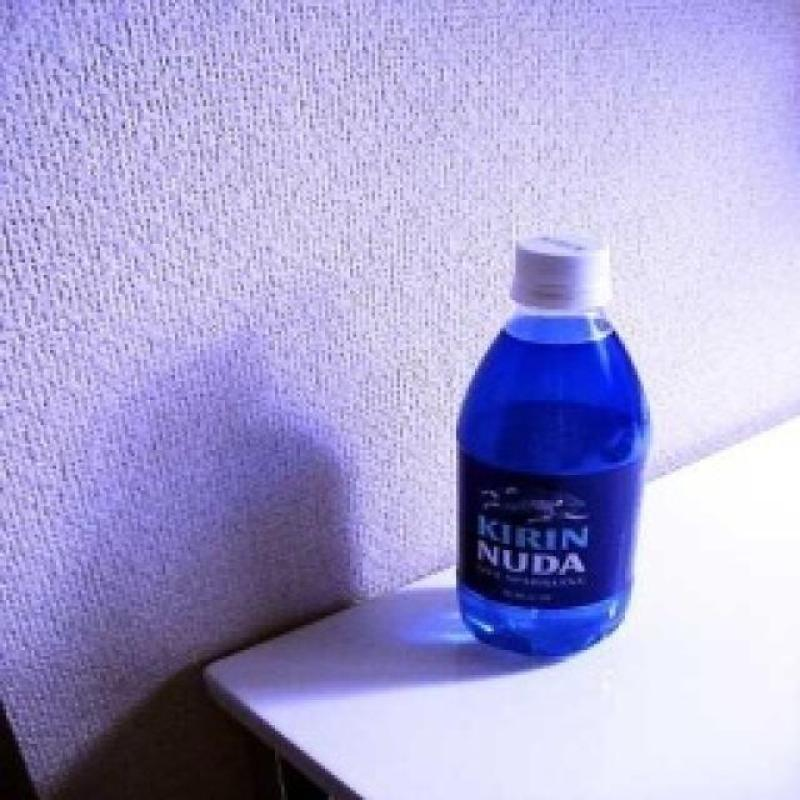botella: (461, 237, 649, 656)
